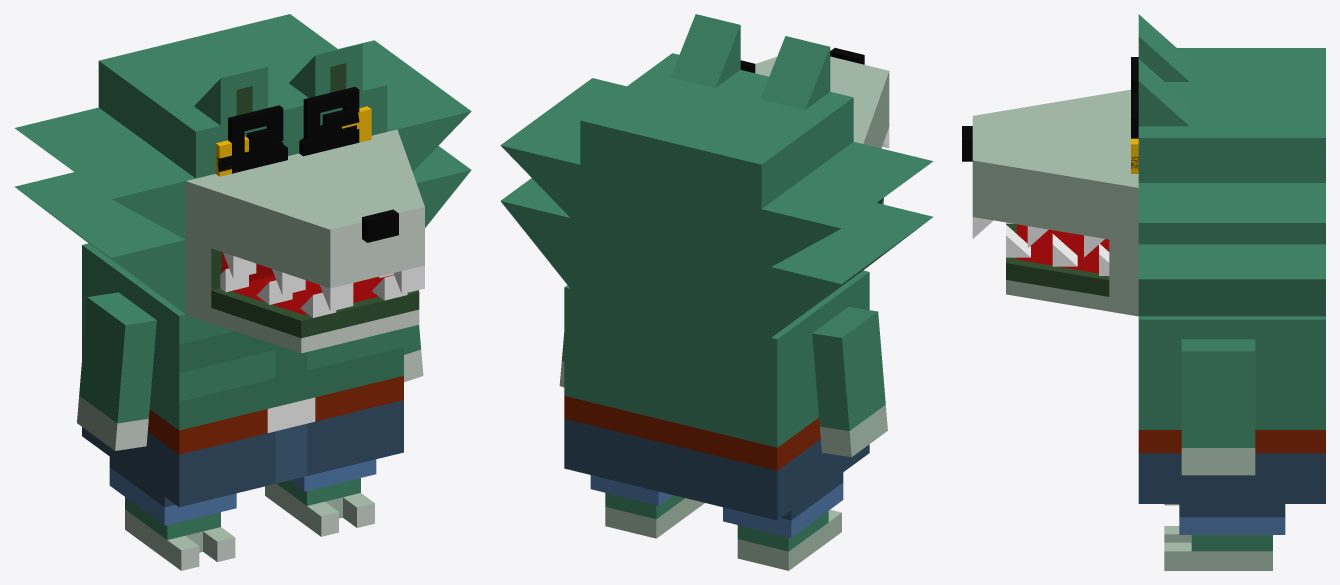
3 renders of one model, left to right at view 1: azimuth 30°, elevation 25°; view 2: azimuth 150°, elevation 25°; view 3: azimuth 270°, elevation 25°, orthographic. The views are drawn at different scales.
Visible parts, largest first — view 1: Ch_44_Head, Ch_44, Ch_44_Hand_L, Ch_44_Leg_L, Ch_44_Leg_R, Ch_44_Eye_03_R, Ch_44_Eye_03_L, Ch_44_Eye_01, Ch_44_Hand_R, Ch_44_Eye_02; view 2: Ch_44_Head, Ch_44, Ch_44_Hand_L, Ch_44_Leg_L, Ch_44_Leg_R; view 3: Ch_44_Head, Ch_44, Ch_44_Hand_R, Ch_44_Leg_R.
Boxes of the visible parts, left/top/right/bottom form: Ch_44_Head: left=14, top=14, right=471, bottom=353; Ch_44: left=82, top=243, right=403, bottom=507; Ch_44_Hand_L: left=77, top=292, right=156, bottom=450; Ch_44_Leg_L: left=109, top=457, right=236, bottom=570; Ch_44_Leg_R: left=265, top=459, right=376, bottom=536; Ch_44_Eye_03_R: left=303, top=87, right=359, bottom=154; Ch_44_Eye_03_L: left=228, top=105, right=283, bottom=173; Ch_44_Eye_01: left=215, top=106, right=371, bottom=176; Ch_44_Hand_R: left=404, top=325, right=423, bottom=382; Ch_44_Eye_02: left=217, top=125, right=356, bottom=171; Ch_44_Head: left=500, top=14, right=933, bottom=337; Ch_44: left=564, top=270, right=869, bottom=520; Ch_44_Hand_L: left=812, top=307, right=887, bottom=457; Ch_44_Leg_L: left=723, top=472, right=843, bottom=570; Ch_44_Leg_R: left=590, top=475, right=704, bottom=538; Ch_44_Head: left=962, top=14, right=1325, bottom=316; Ch_44: left=1138, top=316, right=1325, bottom=503; Ch_44_Hand_R: left=1181, top=339, right=1255, bottom=475; Ch_44_Leg_R: left=1164, top=504, right=1285, bottom=570.
Bounding box in the file's own units: 9.34 × 12.29 × 8.48.
